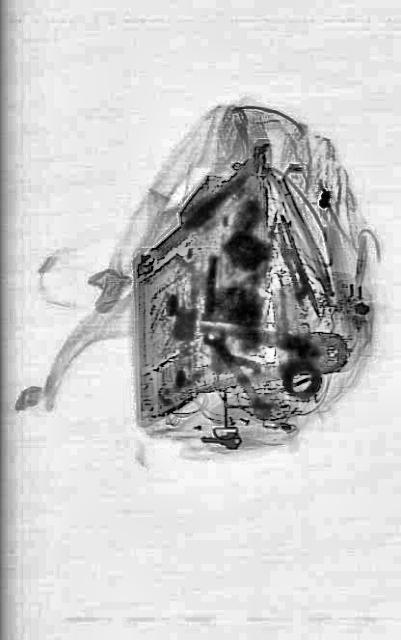Pliers: (196, 316, 348, 392)
Wrench: (200, 314, 276, 430)
